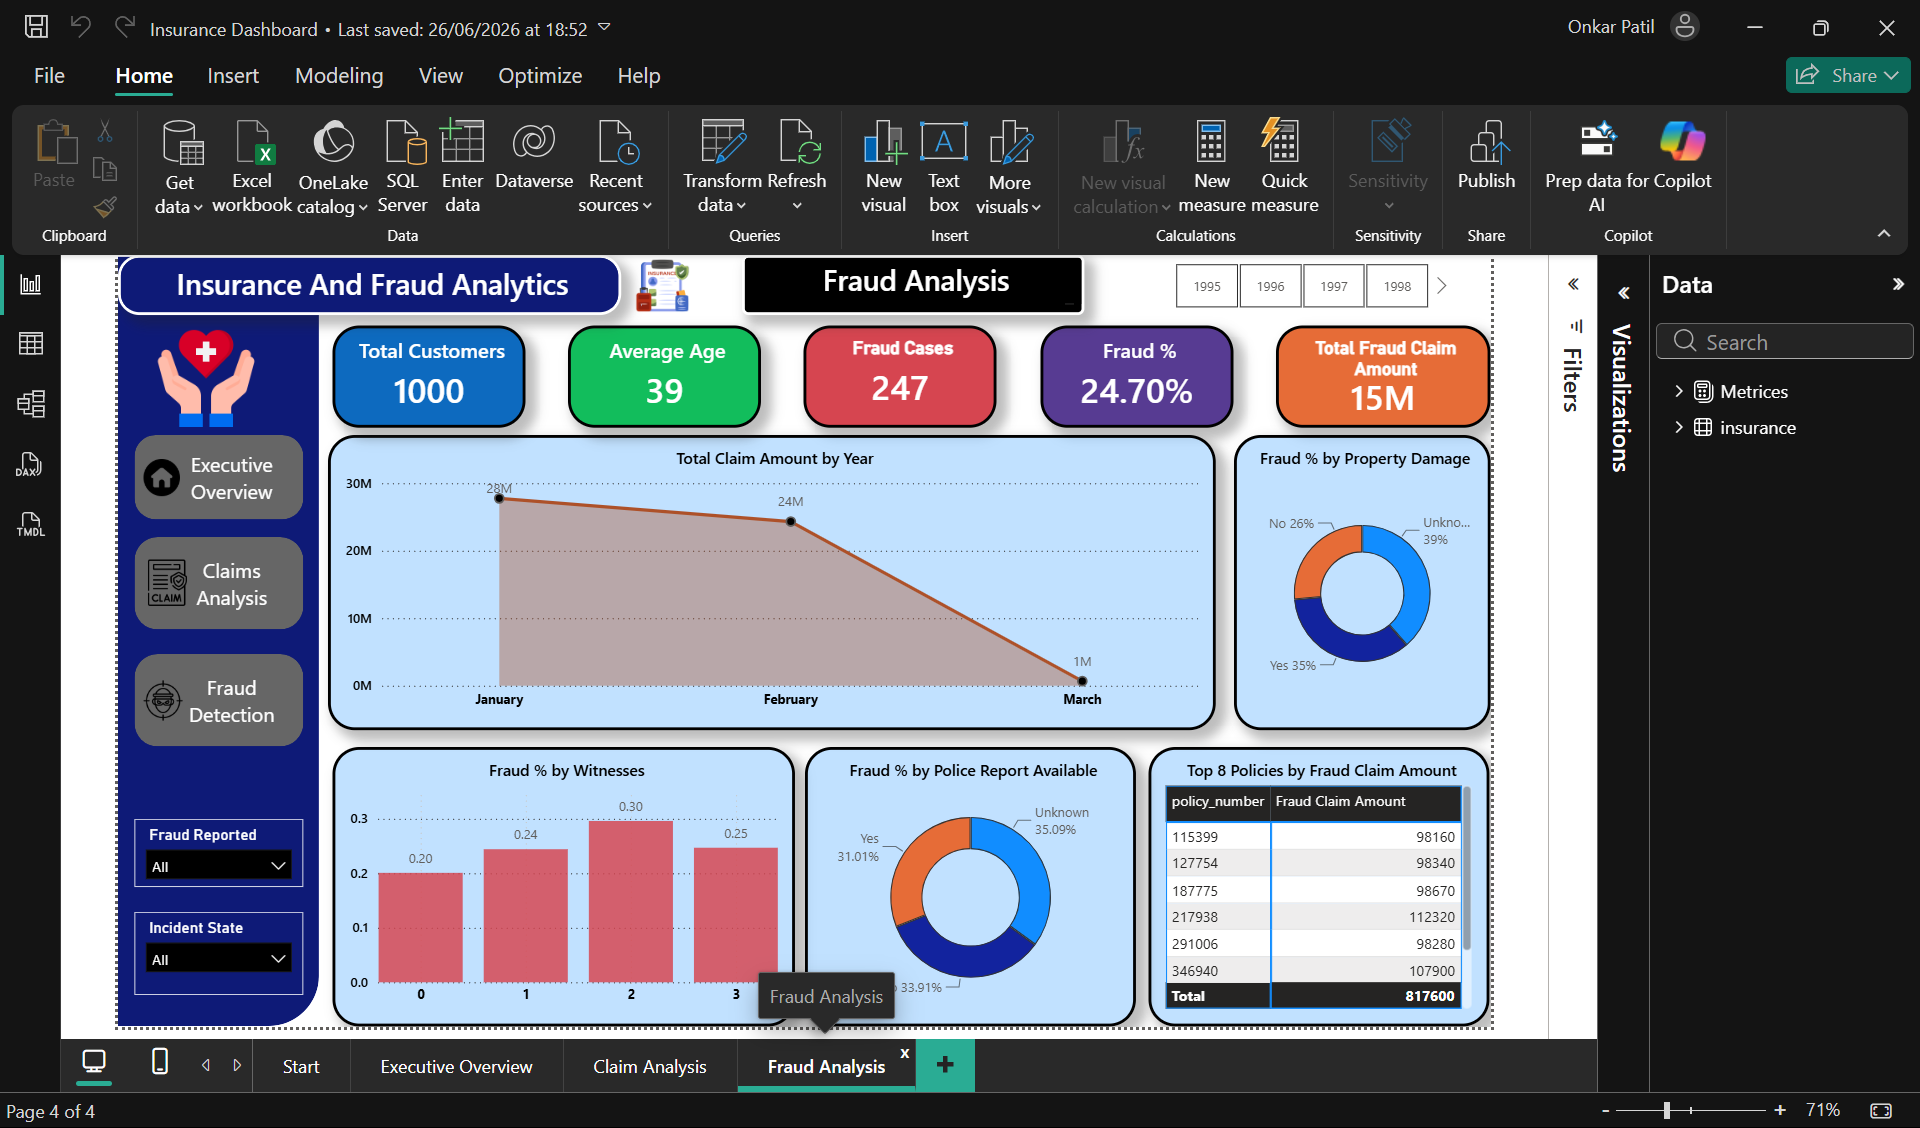

What the dashboard file says about the page in this screenshot:
{"tool":"powerbi","page":{"name":"Fraud Analysis","canvas":[1280,720],"ordinal":3},"visuals":[{"type":"card","title":"Fraud Cases","fields":{"Values":["Metrices.Fraud Cases"]},"box":[639.8,65.1,180.2,95.4],"z":0},{"type":"card","title":"Fraud %","fields":{"Values":["Metrices.Fraud %"]},"box":[859.7,65.1,180.2,95.4],"z":1000},{"type":"card","title":"Total Fraud Claim Amount","fields":{"Values":["Metrices.Fraud Claim Amount"]},"box":[1079.6,65.1,199.9,95.4],"z":2000},{"type":"lineChart","title":"Total Claim Amount by Year","fields":{"Y":["Metrices.Total Claim Amount"],"Category":["insurance.incident_date.Variation.Date Hierarchy.Month"]},"box":[195.3,168.1,828.3,275.6],"z":3000},{"type":"pivotTable","title":"Top 8 Policies by Fraud Claim Amount","fields":{"Values":["Metrices.Fraud Claim Amount"],"Rows":["insurance.policy_number"]},"box":[961.5,458.8,318,260.4],"z":4000},{"type":"clusteredColumnChart","title":"Fraud % by Witnesses","fields":{"Y":["Metrices.Fraud %"],"Category":["insurance.witnesses"]},"box":[199.9,458.8,431.5,260.4],"z":5000},{"type":"donutChart","title":"Fraud % by Police Report Available","fields":{"Category":["insurance.police_report_available"],"Y":["Metrices.Fraud %"]},"box":[640.5,458.8,308.9,260.4],"z":6000},{"type":"donutChart","title":"Fraud % by Property Damage","fields":{"Category":["insurance.property_damage"],"Y":["Metrices.Fraud %"]},"box":[1040.3,168.1,239.2,275.6],"z":7000},{"type":"shape","box":[0,1.4,187.5,717.7],"z":8000},{"type":"shape","box":[15.1,168.1,157.5,78.7],"z":9000},{"type":"shape","box":[15.1,263.5,157.5,86.3],"z":10000},{"type":"shape","box":[15.1,372.5,157.5,86.3],"z":11000},{"type":"card","title":"Average Age","fields":{"Values":["Metrices.Average Customer Age"]},"box":[419.8,65.1,180.2,95.4],"z":12000},{"type":"card","title":"Total Customers","fields":{"Values":["Count(insurance.policy_number)"]},"box":[199.9,65.1,180.2,95.4],"z":13000},{"type":"textbox","title":"Insurance And Fraud Analytics","box":[0,0,469.4,56],"z":14000},{"type":"textbox","title":"Fraud Analysis","box":[581.5,0,319.5,56],"z":15000},{"type":"slicer","fields":{"Values":["insurance.fraud_reported"]},"box":[15.1,525.4,157.5,63.6],"z":16000},{"type":"slicer","fields":{"Values":["insurance.incident_state"]},"box":[15.1,613.3,157.5,77.2],"z":17000},{"type":"image","box":[472.4,2.9,69.5,51.4],"z":17001},{"type":"image","box":[31.8,51.5,99.9,127.2],"z":17002},{"type":"image","box":[24.3,284.1,44.2,43.5],"z":17003},{"type":"image","box":[15.2,394.9,53.3,41.7],"z":17004},{"type":"image","box":[9.4,190.6,62,34.4],"z":17005},{"type":"slicer","fields":{"Values":["insurance.auto_year"]},"box":[961.5,1.5,284.7,54.5],"z":17006}]}

Visuals, with their boxes on the page's 1280x720 design canvas (x1, y1, x2, y2). These are canvas units, not pixel positions in the 1920x1128 screenshot, which may show the page scaled, cropped or inside an application window:
"Fraud Cases" card: bbox=[640, 65, 820, 160]
"Fraud %" card: bbox=[860, 65, 1040, 160]
"Total Fraud Claim Amount" card: bbox=[1080, 65, 1280, 160]
"Total Claim Amount by Year" lineChart: bbox=[195, 168, 1024, 444]
"Top 8 Policies by Fraud Claim Amount" pivotTable: bbox=[962, 459, 1280, 719]
"Fraud % by Witnesses" clusteredColumnChart: bbox=[200, 459, 631, 719]
"Fraud % by Police Report Available" donutChart: bbox=[640, 459, 949, 719]
"Fraud % by Property Damage" donutChart: bbox=[1040, 168, 1280, 444]
shape: bbox=[0, 1, 188, 719]
shape: bbox=[15, 168, 173, 247]
shape: bbox=[15, 264, 173, 350]
shape: bbox=[15, 372, 173, 459]
"Average Age" card: bbox=[420, 65, 600, 160]
"Total Customers" card: bbox=[200, 65, 380, 160]
"Insurance And Fraud Analytics" textbox: bbox=[0, 0, 469, 56]
"Fraud Analysis" textbox: bbox=[582, 0, 901, 56]
slicer - insurance.fraud_reported: bbox=[15, 525, 173, 589]
slicer - insurance.incident_state: bbox=[15, 613, 173, 690]
image: bbox=[472, 3, 542, 54]
image: bbox=[32, 52, 132, 179]
image: bbox=[24, 284, 68, 328]
image: bbox=[15, 395, 68, 437]
image: bbox=[9, 191, 71, 225]
slicer - insurance.auto_year: bbox=[962, 2, 1246, 56]
